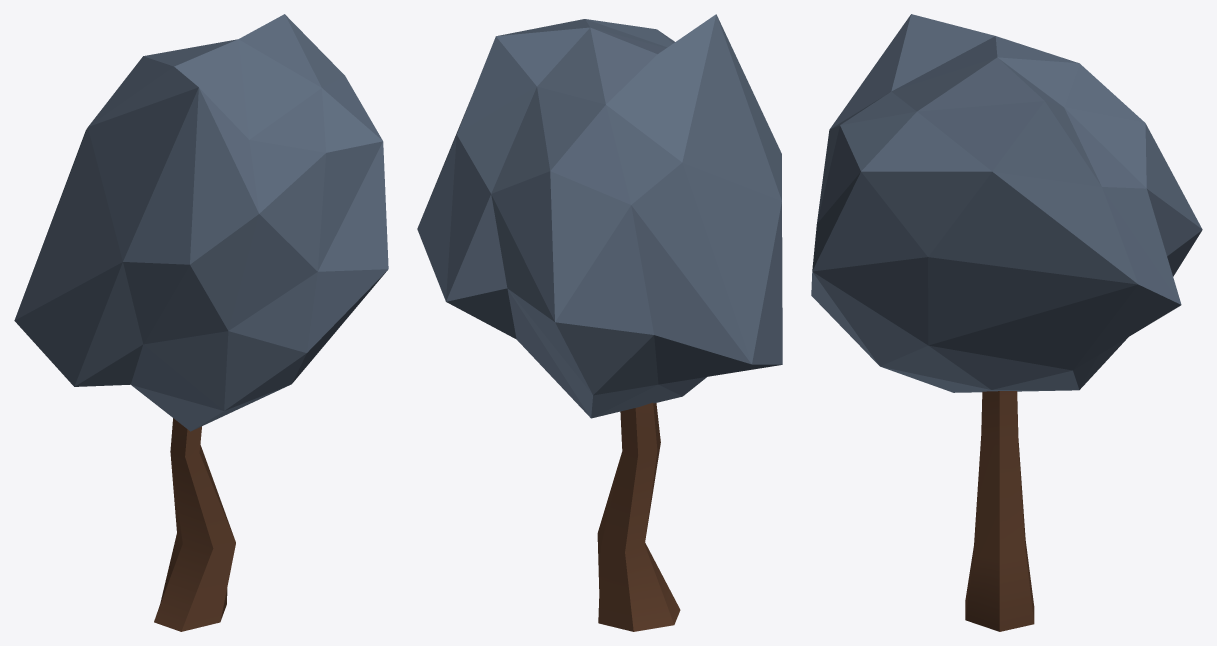
Rendered from arbol_azul_redondo.fbx.
The picture shows the model from 3 angles, left to right: view 1: azimuth 30°, elevation 25°; view 2: azimuth 150°, elevation 25°; view 3: azimuth 270°, elevation 25°; orthographic projection. The views are drawn at different scales.
Visible parts, largest first — view 1: copa_arbol2, tronco1; view 2: copa_arbol2, tronco1; view 3: copa_arbol2, tronco1.
Part boxes in pixels (x1=…): copa_arbol2: x1=14, y1=14, x2=388, y2=431; tronco1: x1=154, y1=418, x2=235, y2=631; copa_arbol2: x1=417, y1=14, x2=782, y2=418; tronco1: x1=597, y1=402, x2=680, y2=631; copa_arbol2: x1=811, y1=14, x2=1202, y2=392; tronco1: x1=965, y1=391, x2=1034, y2=631.
Bounding box in the file's own units: 8.81 × 16.14 × 9.83.
